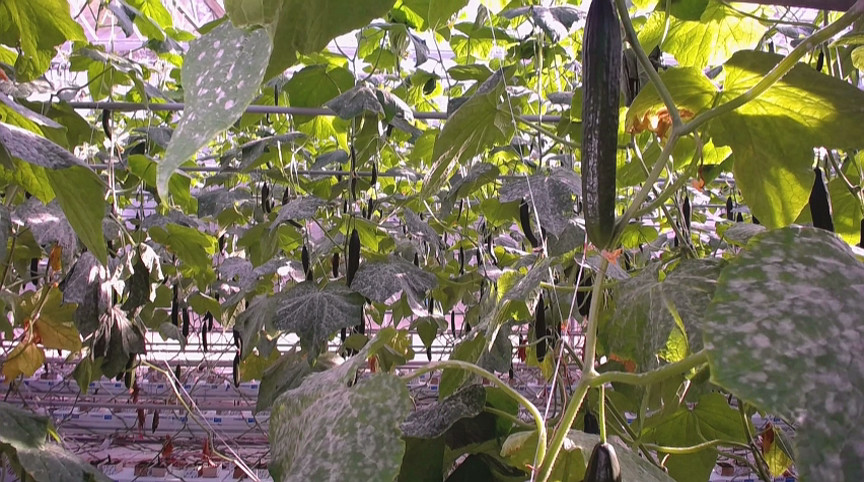cucumber: (580, 1, 622, 251), (808, 166, 837, 236), (585, 438, 624, 482), (346, 229, 361, 283)
